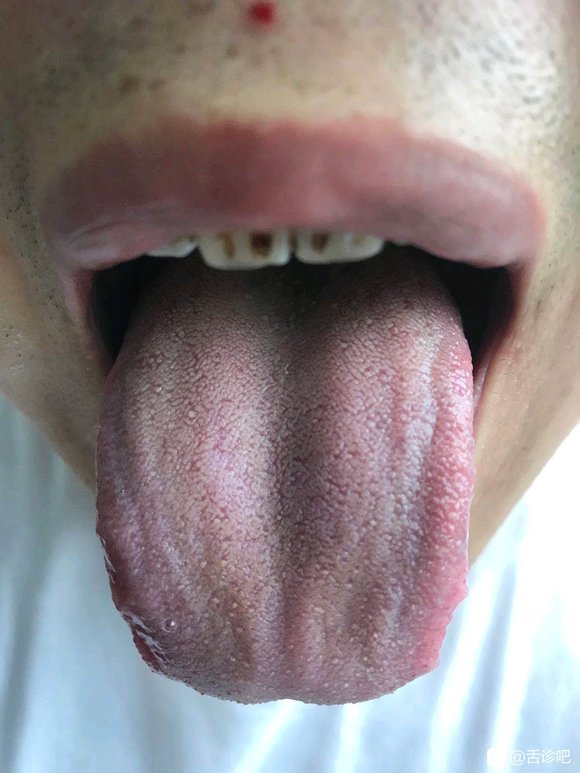baitaishe: (95, 257, 473, 706)
chihenshe: (95, 524, 170, 678)
